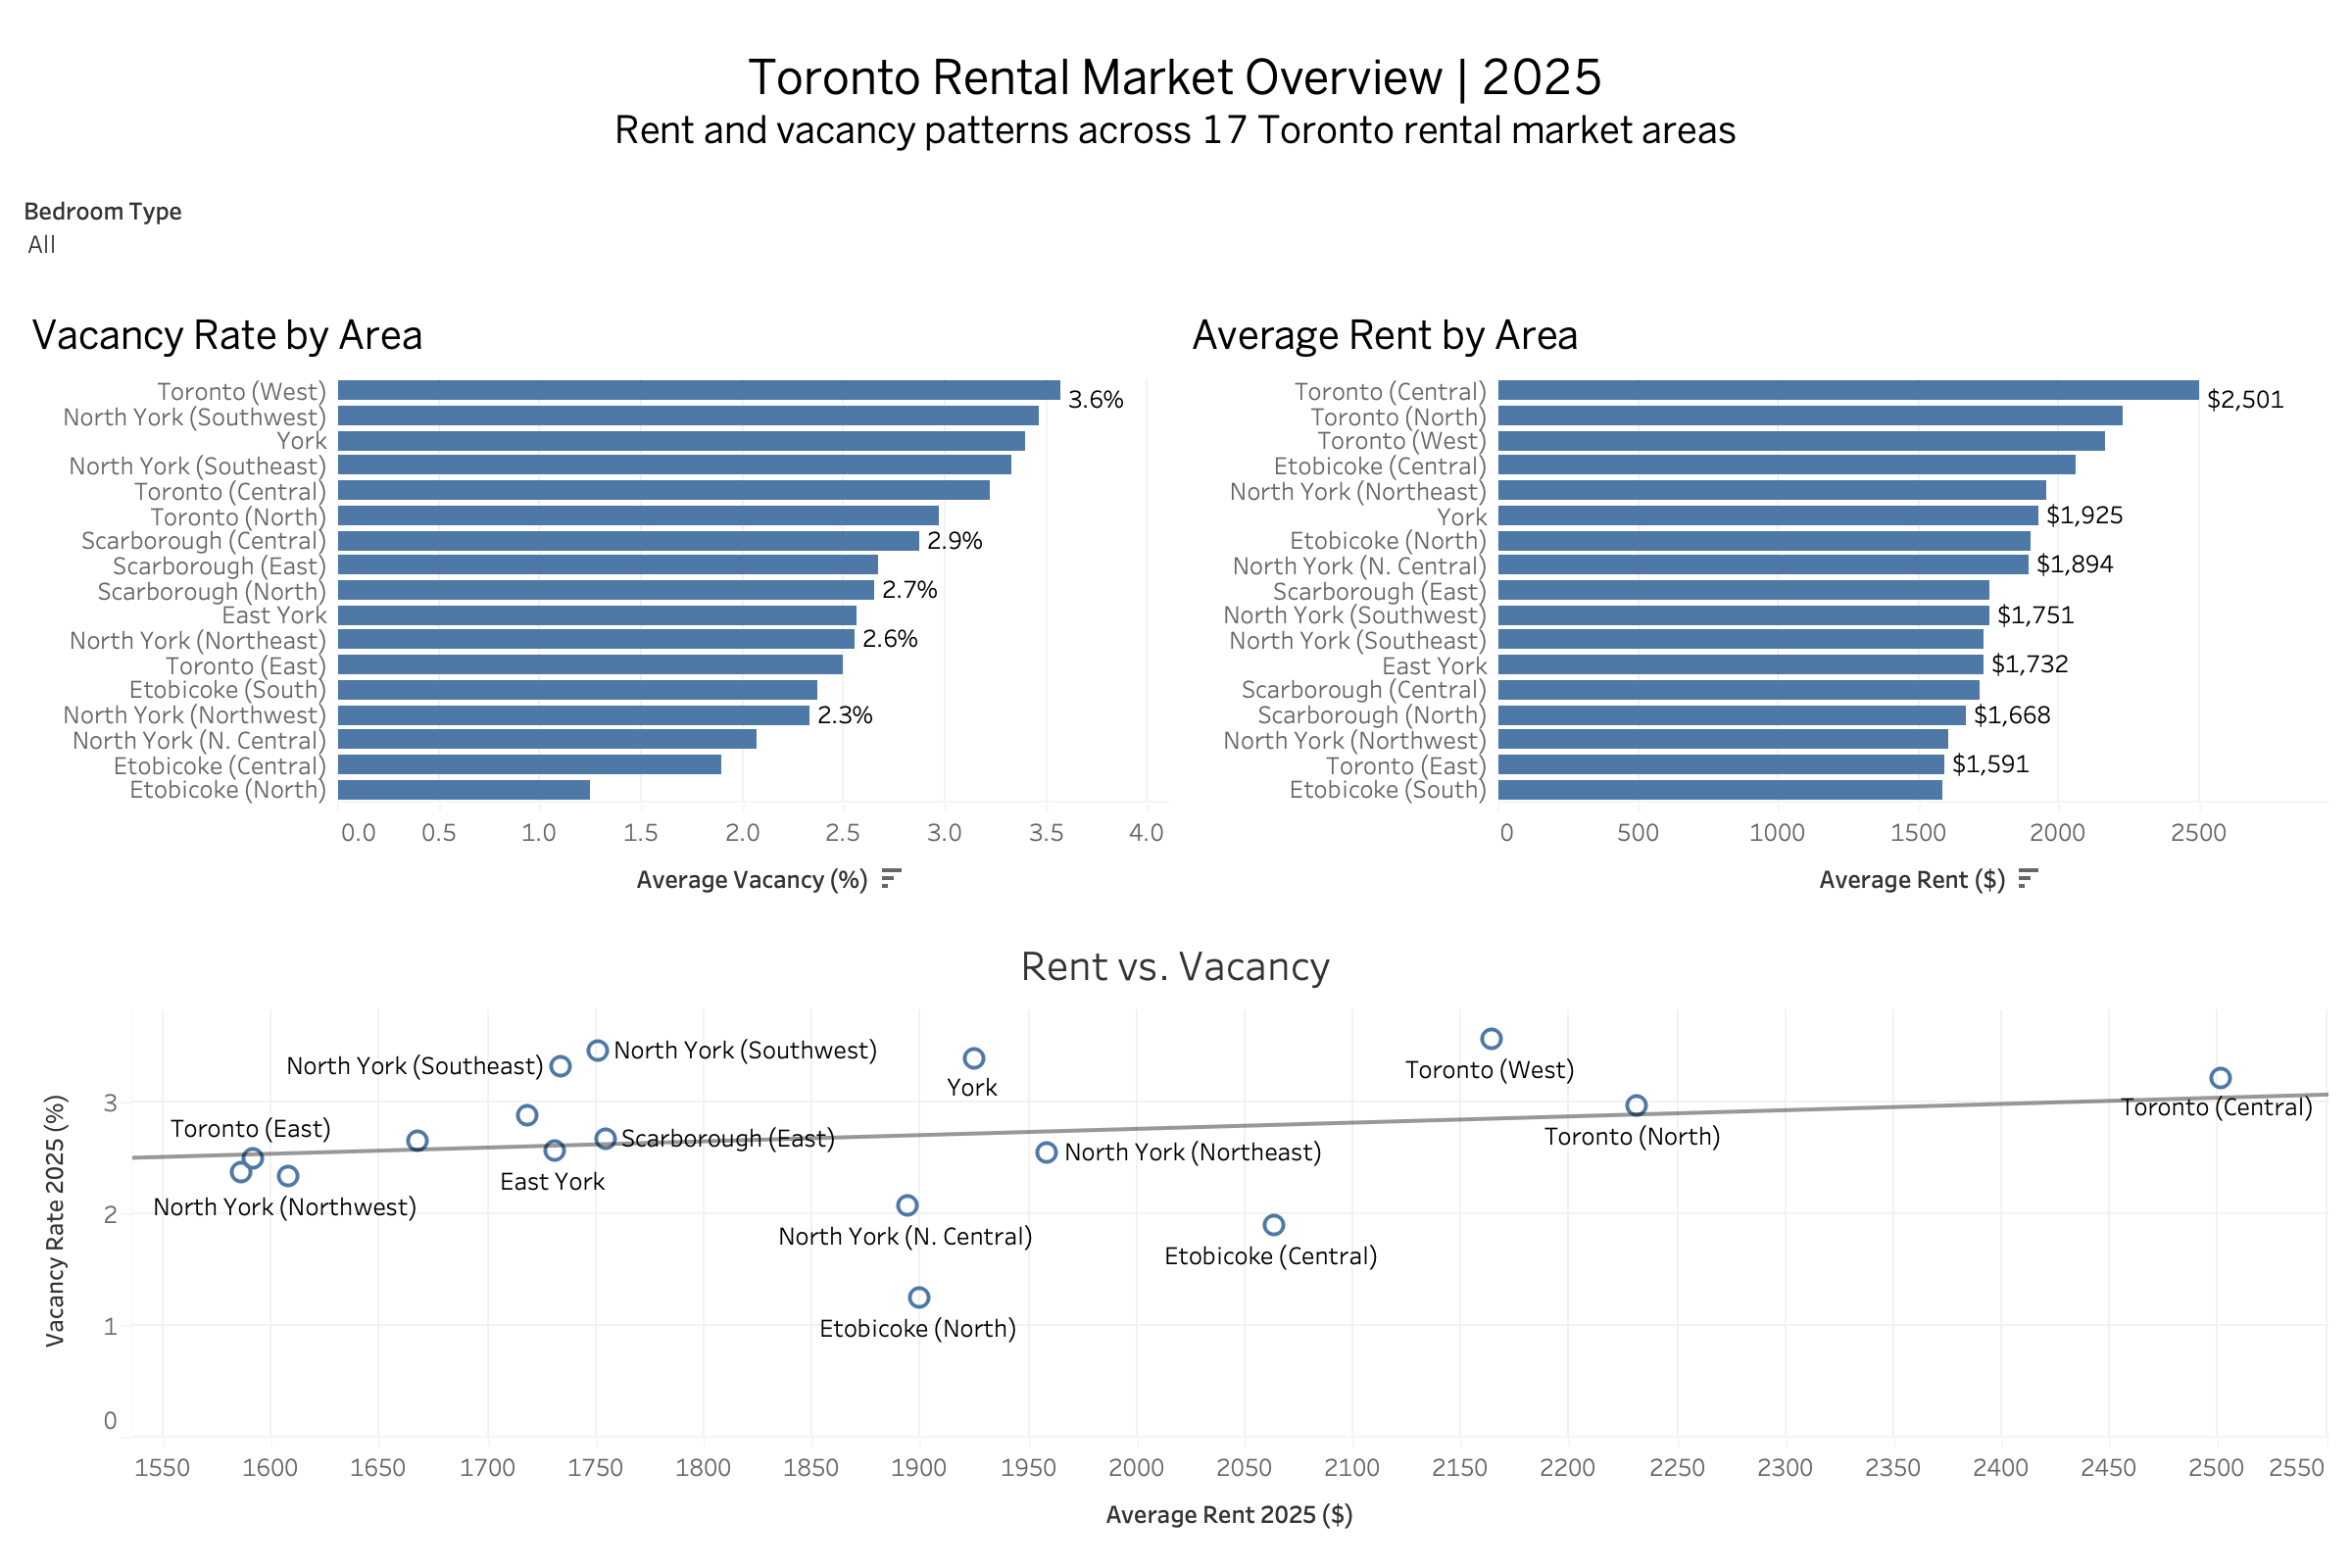

Layout of this report page (visuals, bound fields, positions):
{"tool":"tableau","page":{"name":"Toronto Rental Market Overview","canvas":[1200,800],"ordinal":0},"visuals":[{"type":"title","box":[8,8,1184,86]},{"type":"filter","title":"Rent by Area","param":"[federated.0gten2x0ty617o1c1hbye0b7jd0e].[none:bedroom_type:nk]","box":[8,94,1184,54]},{"type":"worksheet","title":"Rent by Vacancy","mark":"Automatic","rows":["area"],"cols":["vacancy_2025"],"box":[8,148,592,320]},{"type":"worksheet","title":"Rent by Area","mark":"Automatic","rows":["area"],"cols":["rent_2025"],"box":[600,148,592,320]},{"type":"worksheet","title":"Rent vs Vacancy","mark":"Automatic","rows":["vacancy_2025"],"cols":["rent_2025"],"box":[8,468,1184,324]}]}

Visuals, with their boxes in screenshot pixels (x1, y1, x2, y2), scaled from the page's 1200x800 canvas onto the 2352x1568 screenshot:
title: <bbox>16, 16, 2336, 184</bbox>
"Rent by Area" filter: <bbox>16, 184, 2336, 290</bbox>
"Rent by Vacancy" worksheet: <bbox>16, 290, 1176, 917</bbox>
"Rent by Area" worksheet: <bbox>1176, 290, 2336, 917</bbox>
"Rent vs Vacancy" worksheet: <bbox>16, 917, 2336, 1552</bbox>
